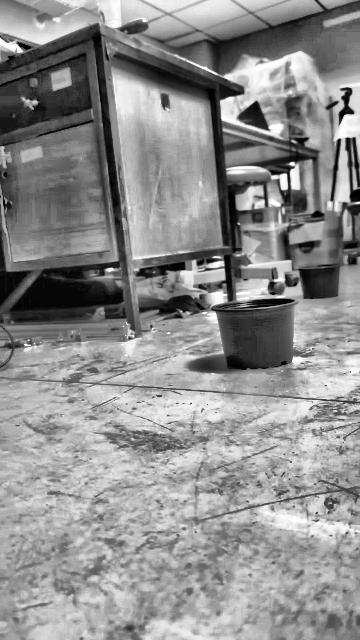pot: (212, 297, 298, 368), (299, 263, 340, 298)
